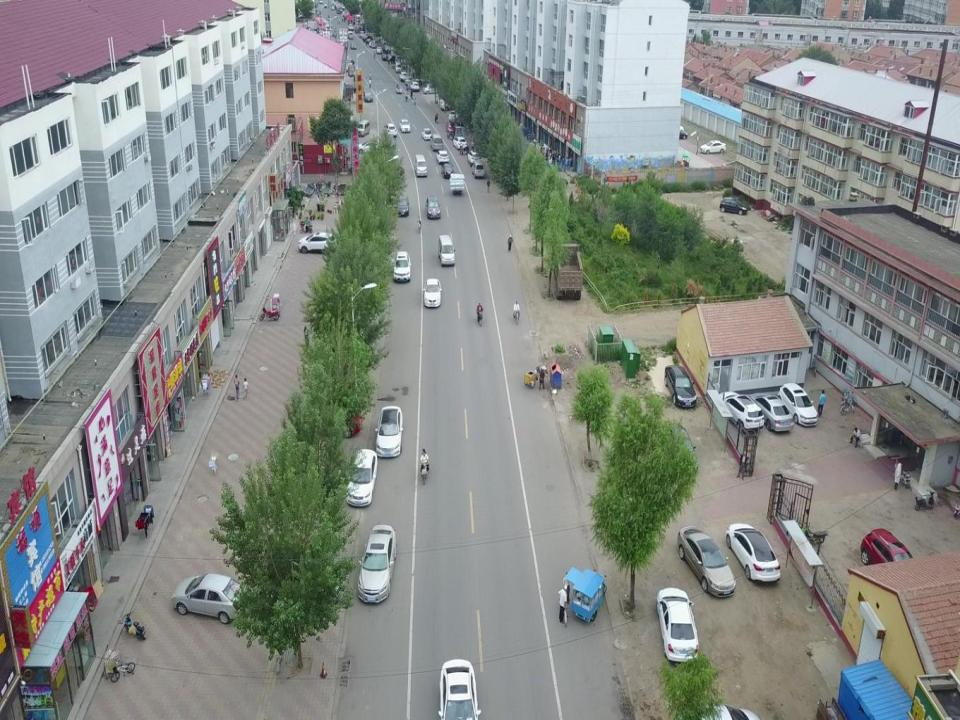car: (172, 571, 258, 624), (676, 525, 736, 598), (860, 527, 924, 592), (655, 586, 700, 662), (726, 523, 782, 583), (357, 524, 397, 604), (438, 658, 482, 720), (714, 390, 766, 434), (346, 448, 378, 507), (747, 392, 794, 432), (776, 382, 817, 426), (313, 404, 364, 439), (374, 406, 404, 458), (664, 364, 698, 408), (298, 232, 338, 255), (422, 278, 443, 308), (392, 251, 412, 282), (719, 195, 748, 216), (354, 140, 388, 154), (425, 195, 441, 219), (700, 140, 726, 154), (395, 195, 410, 216), (382, 122, 398, 139), (384, 133, 398, 152), (466, 150, 482, 166), (669, 128, 688, 140), (440, 163, 454, 179), (436, 150, 450, 166), (452, 136, 468, 150), (439, 98, 455, 111), (399, 118, 411, 132), (448, 108, 461, 120), (445, 120, 456, 134), (421, 126, 432, 140), (362, 90, 374, 102)
truck: (550, 239, 584, 300)
van: (438, 234, 456, 267), (414, 153, 428, 177), (354, 118, 370, 138), (472, 160, 486, 180), (430, 133, 443, 152), (347, 64, 356, 76)
